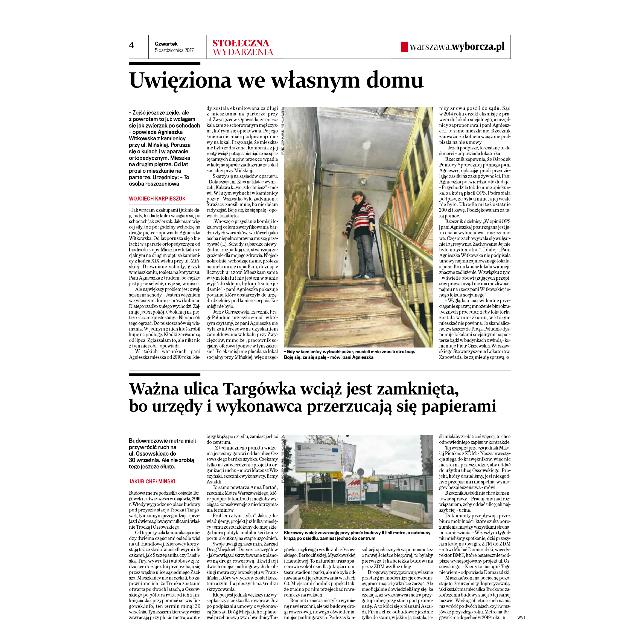article: (127, 62, 513, 364), (126, 372, 514, 622)
